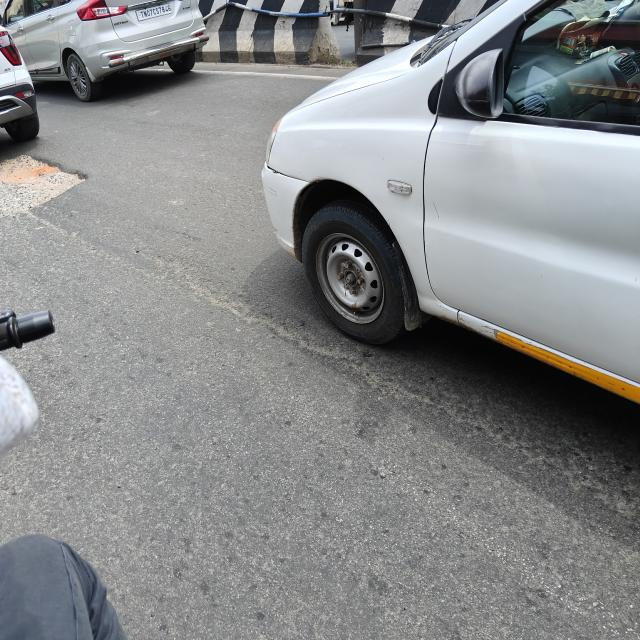scratch: (424, 289, 509, 340), (428, 198, 448, 222)
